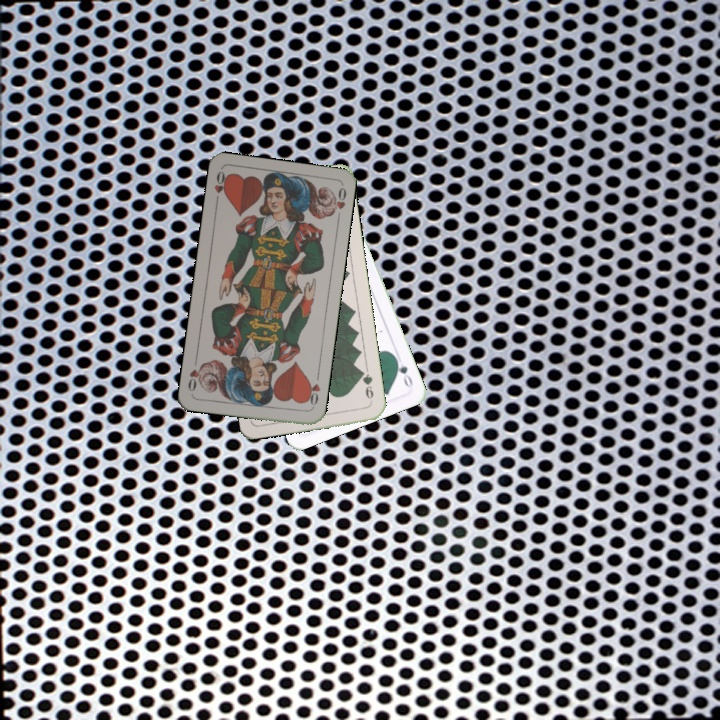G9: (357, 366, 376, 406)
GO: (390, 353, 415, 390)
HO: (302, 370, 323, 411), (210, 167, 230, 208)
